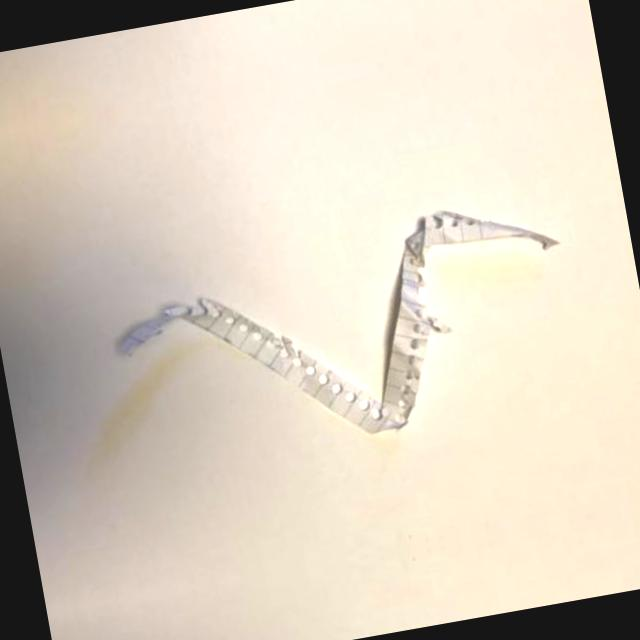paper: (54, 182, 611, 506)
